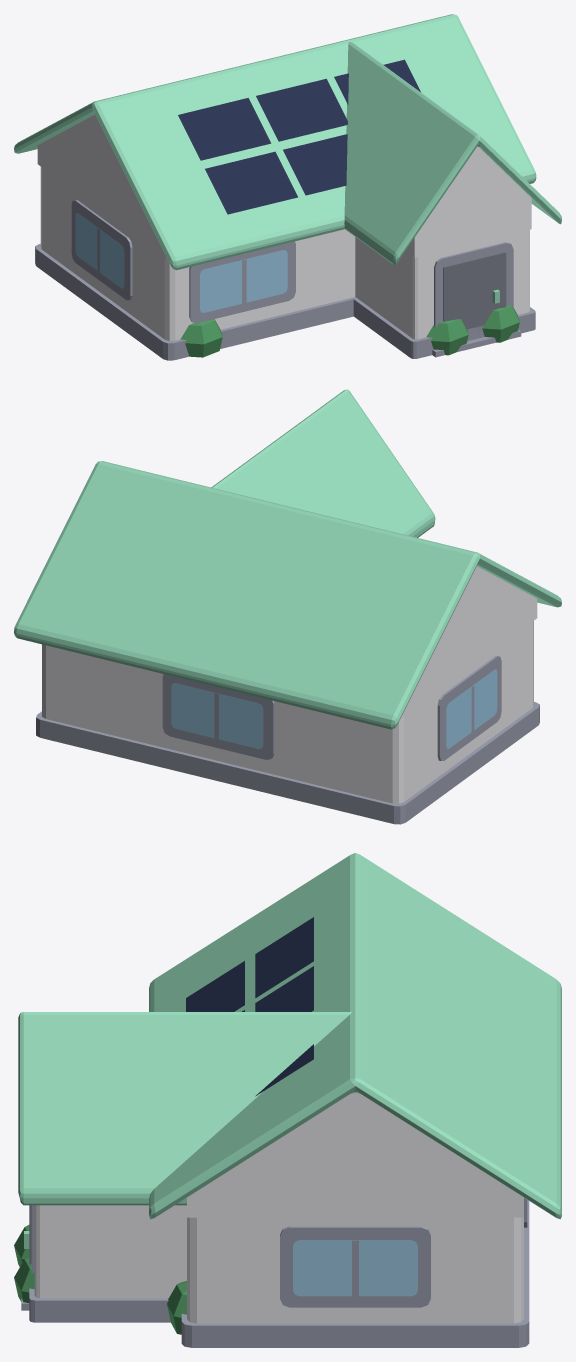
Rendered from house-1x1-1f-tone-a-solar.glb.
3 views of the same model, one above another, from view 1: azimuth 30°, elevation 25°; view 2: azimuth 150°, elevation 25°; view 3: azimuth 270°, elevation 25° (orthographic). The views are drawn at different scales.
Visible parts, largest first — view 1: house-1x1-1f-tone-a-solar; view 2: house-1x1-1f-tone-a-solar; view 3: house-1x1-1f-tone-a-solar.
Part boxes in pixels (<box>): house-1x1-1f-tone-a-solar: <box>14,14,561,360</box>; house-1x1-1f-tone-a-solar: <box>14,389,561,824</box>; house-1x1-1f-tone-a-solar: <box>14,853,561,1347</box>.
Bounding box in the file's own units: 1 × 0.5522 × 1.01.
Materials: 1 (1 with a texture image).
